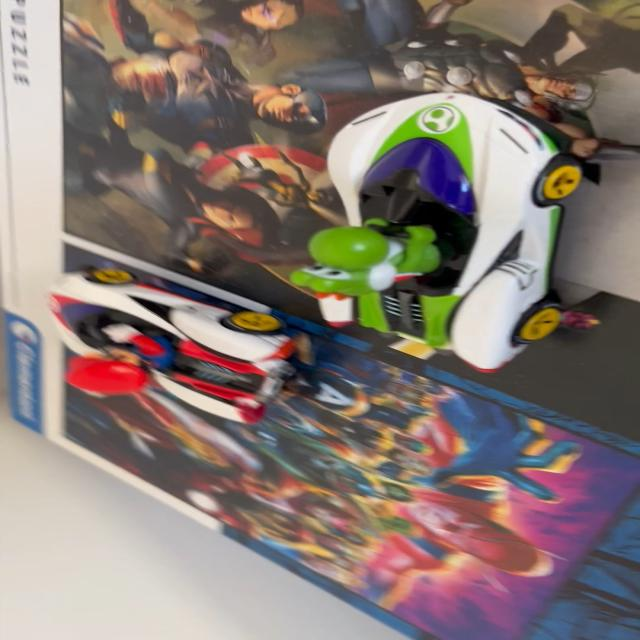mario: (20, 245, 297, 434)
yoshi: (262, 70, 623, 397)
